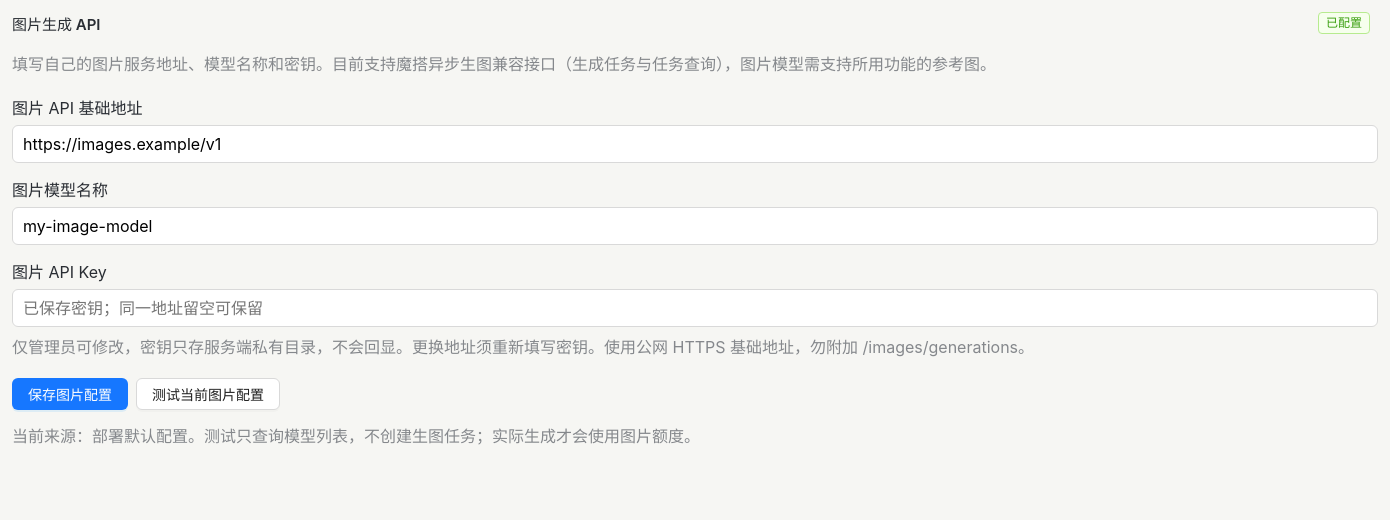
Test case: 图片API可手填保存，密钥不回填且保存后清空
Expected: the field showing "https://images.example/v1" is shown, 12,125 -> 1378,163
Expected: the password field labelled "图片 API Key" is empty, 12,289 -> 1378,327
Replace the text in the field labelled "图片模型名称" with "new-image-model". click: {"x": 695, "y": 226}
box: 12,207 -> 1378,245
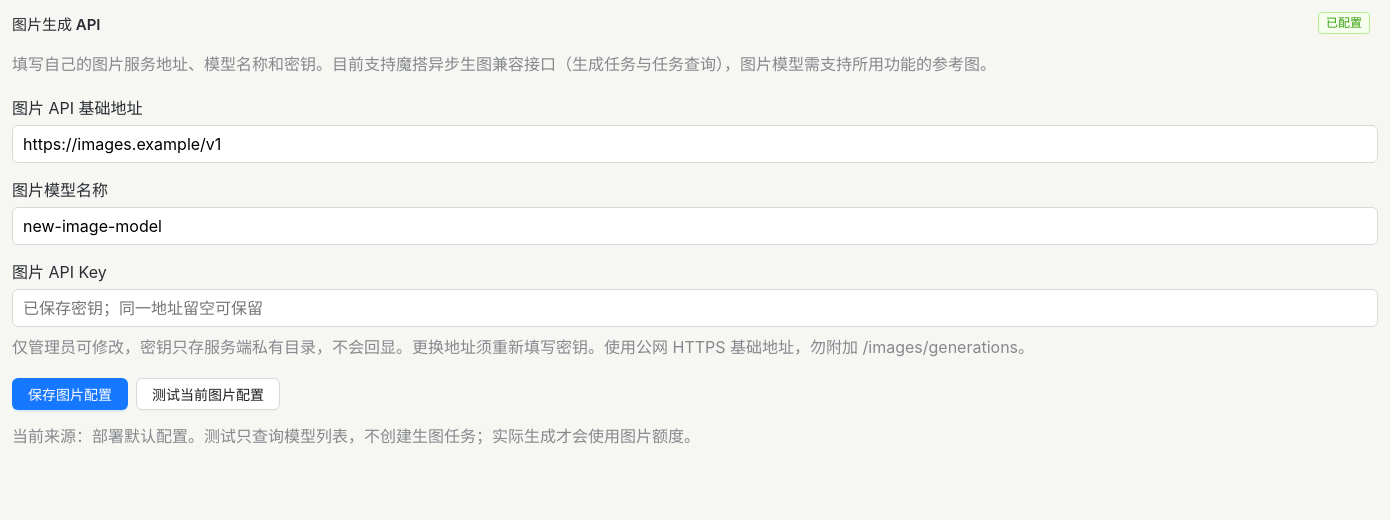
Type "private-image-test-value" into the password field labelled "图片 API Key". click: {"x": 695, "y": 308}
box: 12,289 -> 1378,327
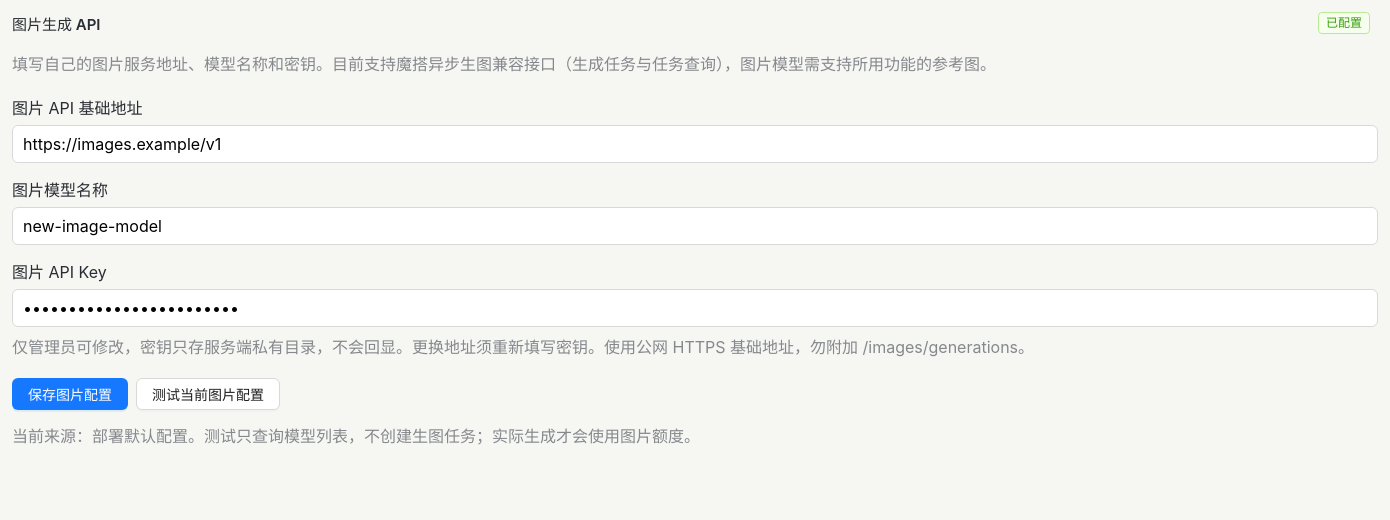
Click the button "保存图片配置". click: {"x": 70, "y": 394}
box: 12,378 -> 128,410
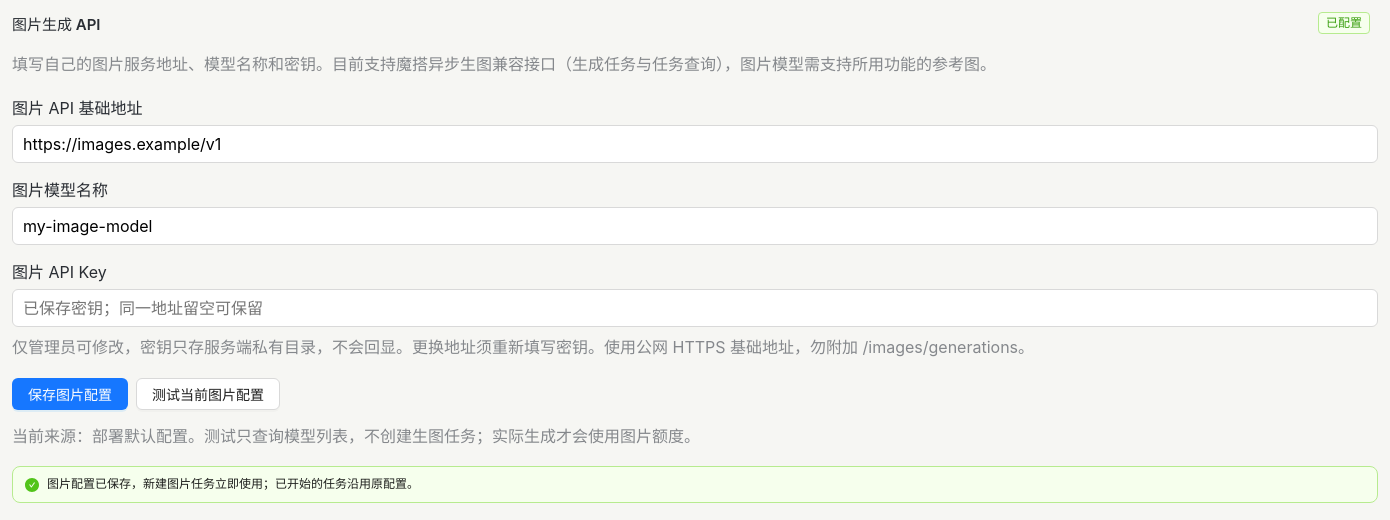
Expected: the password field labelled "图片 API Key" is empty, 12,289 -> 1378,327
Expected: the text "图片配置已保存，新建图片任务立即使用；已开始的任务沿用原配置。" is shown, 47,476 -> 419,491
